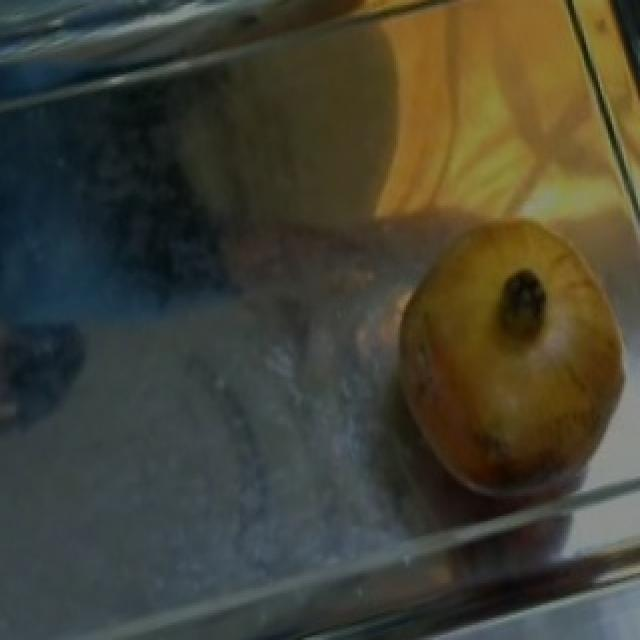fruit: (364, 216, 640, 533)
